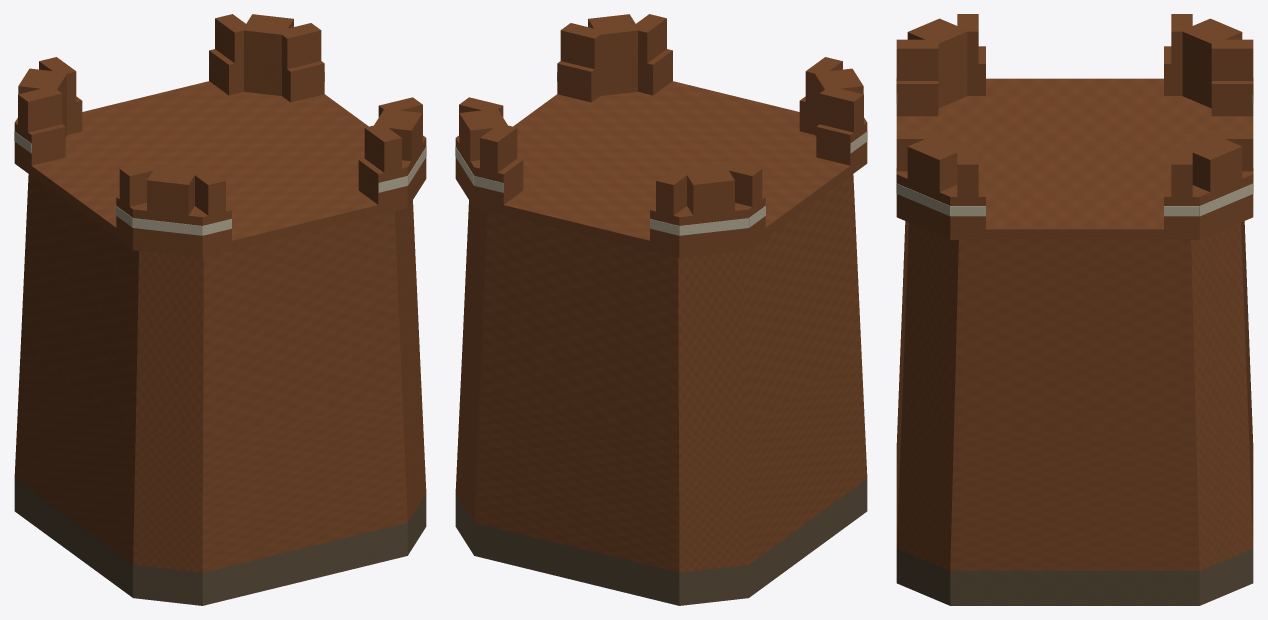
The model's file is Berber_Bastion_Age2_cross.fbx.
3 renders of one model, left to right at view 1: azimuth 30°, elevation 25°; view 2: azimuth 150°, elevation 25°; view 3: azimuth 270°, elevation 25°, orthographic. The views are drawn at different scales.
Visible parts, largest first — view 1: cross_battered_upper, cross_battered_lower, cross_continuous_walk_floor, cross_stone_foot, cross_merlon_7_0_0, cross_merlon_3_0_0, cross_merlon_6_0_0, cross_guard_7_0, cross_merlon_2_1_0, cross_guard_6_0, cross_merlon_0_1_0, cross_guard_2_1 (+11 smaller); view 2: cross_battered_upper, cross_battered_lower, cross_continuous_walk_floor, cross_stone_foot, cross_merlon_5_0_0, cross_merlon_1_0_0, cross_merlon_6_1_0, cross_guard_5_0, cross_merlon_2_0_0, cross_guard_6_1, cross_merlon_4_0_0, cross_guard_2_0 (+11 smaller); view 3: cross_battered_upper, cross_battered_lower, cross_continuous_walk_floor, cross_stone_foot, cross_merlon_1_0_0, cross_merlon_3_0_0, cross_merlon_5_0_0, cross_merlon_7_0_0, cross_merlon_0_0_0, cross_merlon_4_1_0, cross_guard_4_1, cross_guard_0_0 (+16 smaller).
Part boxes in pixels (x1,y1,x2,y2): cross_battered_upper: [21, 174, 420, 436]; cross_battered_lower: [14, 345, 426, 572]; cross_continuous_walk_floor: [14, 81, 426, 257]; cross_stone_foot: [14, 478, 426, 605]; cross_merlon_7_0_0: [147, 164, 195, 215]; cross_merlon_3_0_0: [242, 14, 293, 65]; cross_merlon_6_0_0: [18, 86, 62, 132]; cross_guard_7_0: [133, 203, 204, 247]; cross_merlon_2_1_0: [277, 23, 321, 69]; cross_guard_6_0: [14, 122, 65, 165]; cross_merlon_0_1_0: [364, 123, 401, 172]; cross_guard_2_1: [282, 61, 324, 102]; cross_battered_upper: [461, 174, 860, 436]; cross_battered_lower: [455, 345, 867, 572]; cross_continuous_walk_floor: [455, 81, 867, 257]; cross_stone_foot: [455, 478, 867, 605]; cross_merlon_5_0_0: [686, 164, 734, 215]; cross_merlon_1_0_0: [588, 14, 639, 65]; cross_merlon_6_1_0: [819, 86, 863, 132]; cross_guard_5_0: [678, 203, 748, 247]; cross_merlon_2_0_0: [560, 23, 604, 69]; cross_guard_6_1: [816, 122, 867, 165]; cross_merlon_4_0_0: [480, 123, 517, 172]; cross_guard_2_0: [557, 61, 599, 102]; cross_battered_upper: [902, 221, 1247, 428]; cross_battered_lower: [896, 313, 1253, 570]; cross_continuous_walk_floor: [896, 78, 1253, 239]; cross_stone_foot: [896, 548, 1253, 605]; cross_merlon_1_0_0: [907, 134, 968, 192]; cross_merlon_3_0_0: [1183, 134, 1242, 192]; cross_merlon_5_0_0: [1181, 18, 1242, 75]; cross_merlon_7_0_0: [907, 18, 967, 75]; cross_merlon_0_0_0: [896, 39, 938, 80]; cross_merlon_4_1_0: [1211, 39, 1253, 80]; cross_guard_4_1: [1211, 81, 1253, 116]; cross_guard_0_0: [896, 81, 938, 116].
Bounding box in the file's own units: 601 × 820 × 601.
Materials: 3 (3 with a texture image).
